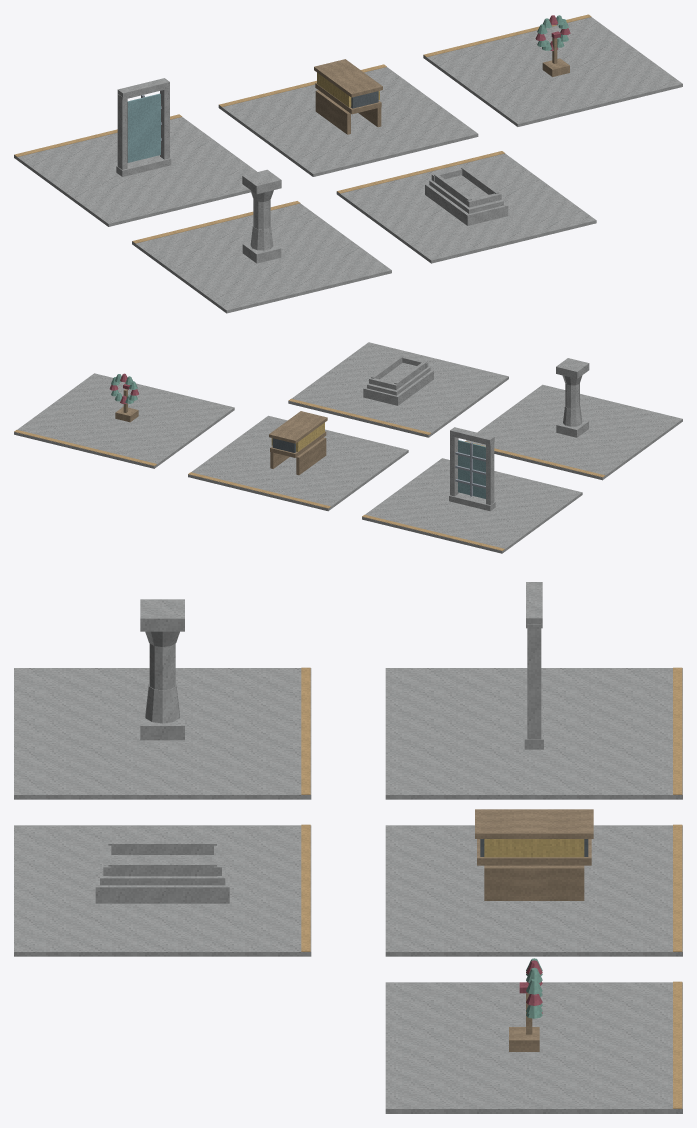
File: level_blockout_kit_church_p05.glb
The picture shows the model from 3 angles, top to bottom: view 1: azimuth 30°, elevation 25°; view 2: azimuth 150°, elevation 25°; view 3: azimuth 270°, elevation 25°; orthographic projection. The views are drawn at different scales.
Parts seen in each view (by area): view 1: level_blockout_kit_church_p05; view 2: level_blockout_kit_church_p05; view 3: level_blockout_kit_church_p05.
Part boxes in pixels (<box>): level_blockout_kit_church_p05: <box>14,14,682,313</box>; level_blockout_kit_church_p05: <box>14,342,682,553</box>; level_blockout_kit_church_p05: <box>14,582,682,1113</box>.
Bounding box in the file's own units: 19.65 × 2.83 × 12.6.
Materials: 9 (9 with a texture image).
